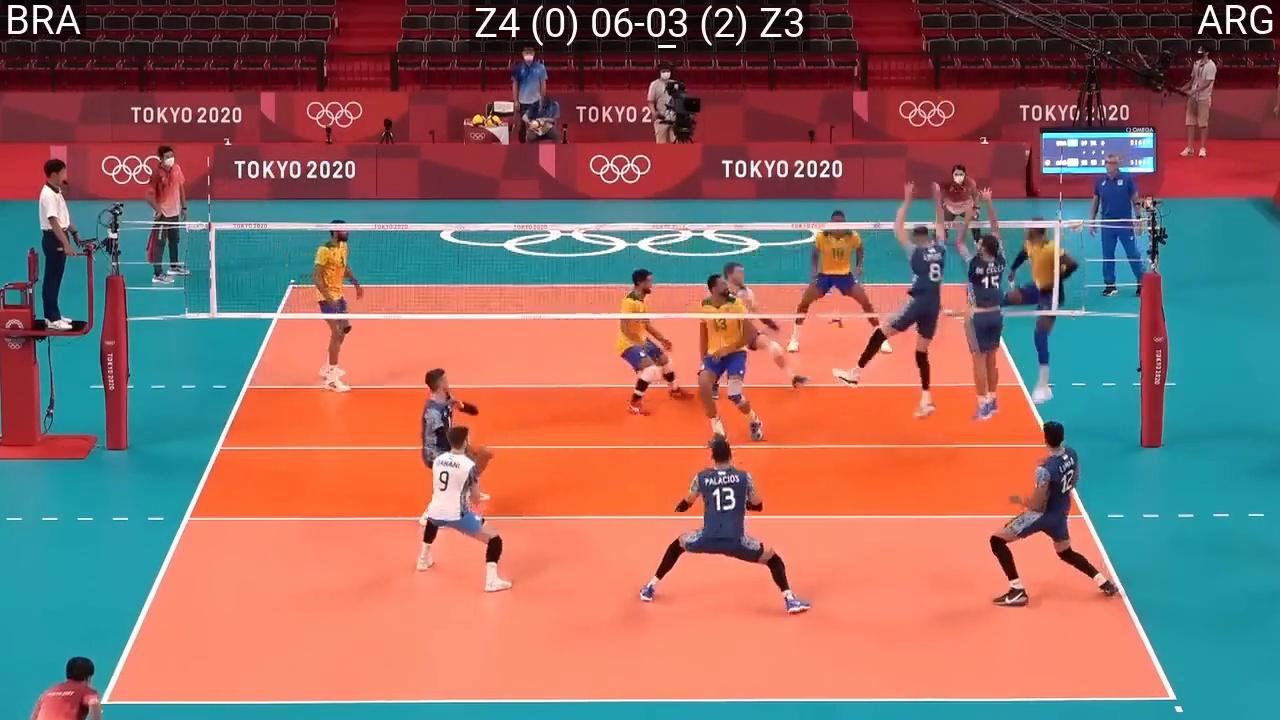ball: (824, 312, 847, 333)
